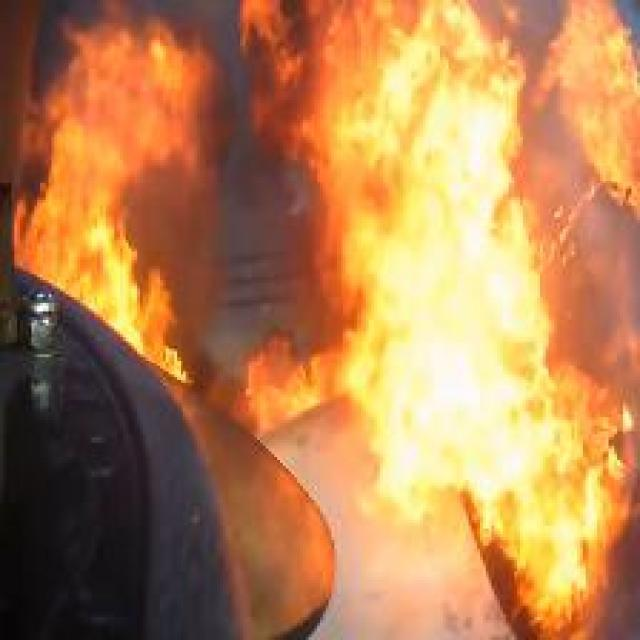Fire: (316, 1, 562, 506), (16, 25, 192, 382), (560, 0, 640, 215), (496, 470, 608, 612)
